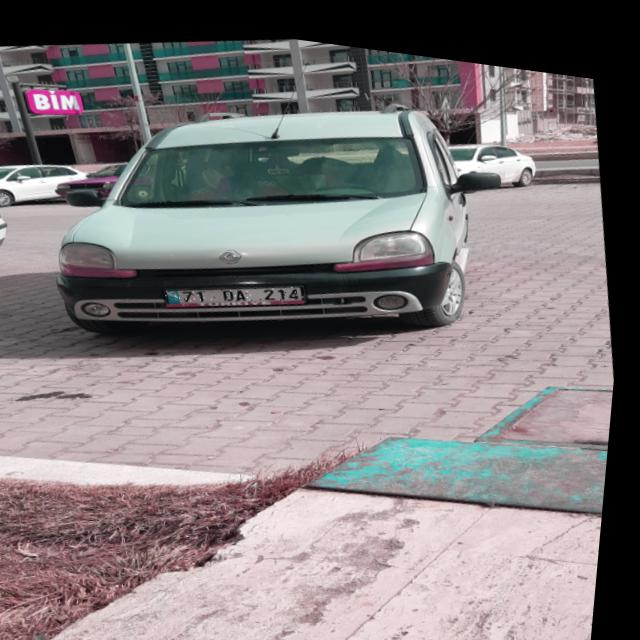plate: (169, 263, 309, 313)
